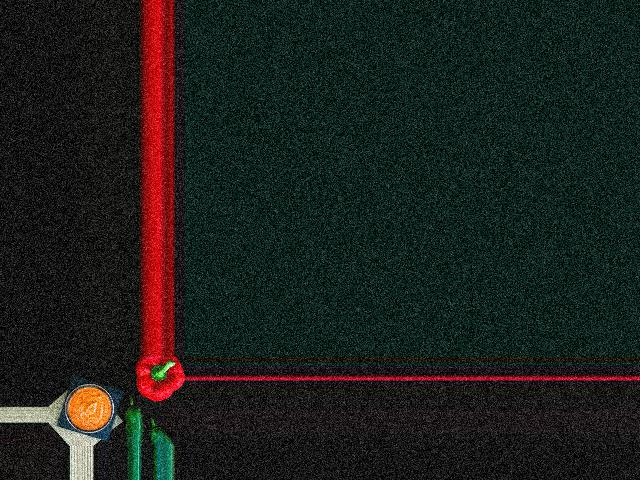bell_pepper: (135, 355, 183, 399)
